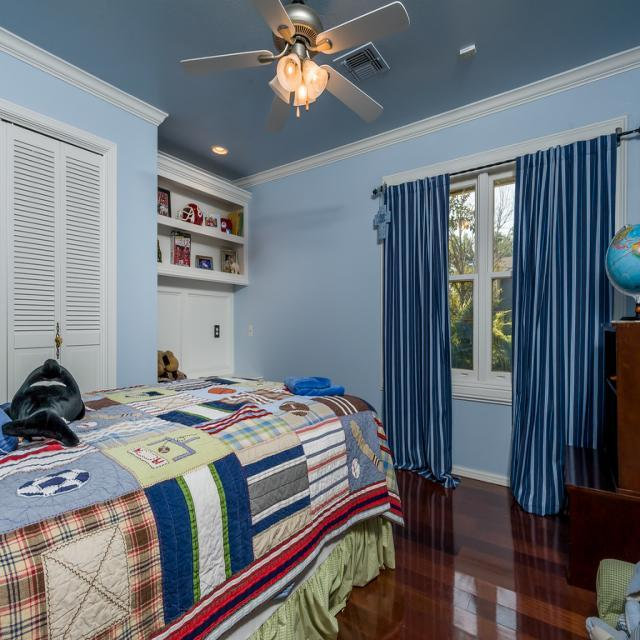bulb_on: (282, 59, 298, 81), (298, 85, 310, 99), (306, 68, 318, 81)
fan_off: (174, 0, 409, 128)
